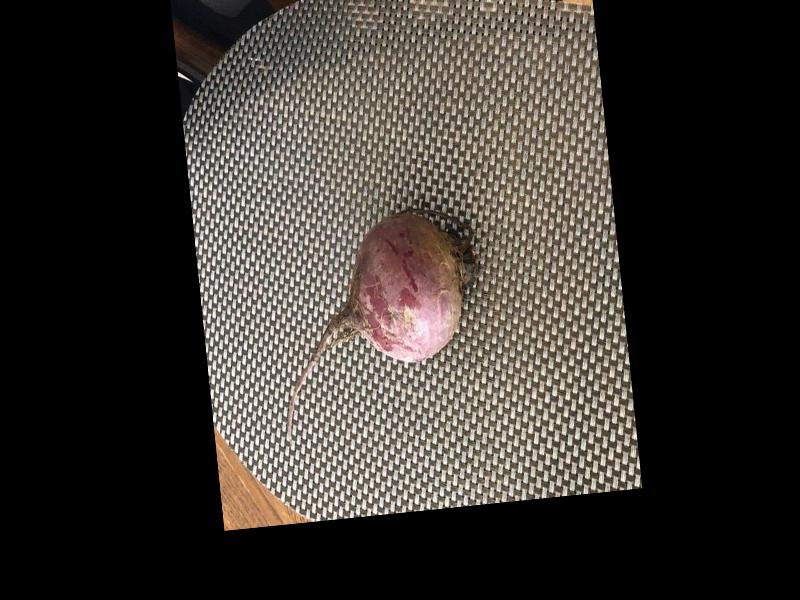Beet: (264, 204, 495, 441)
